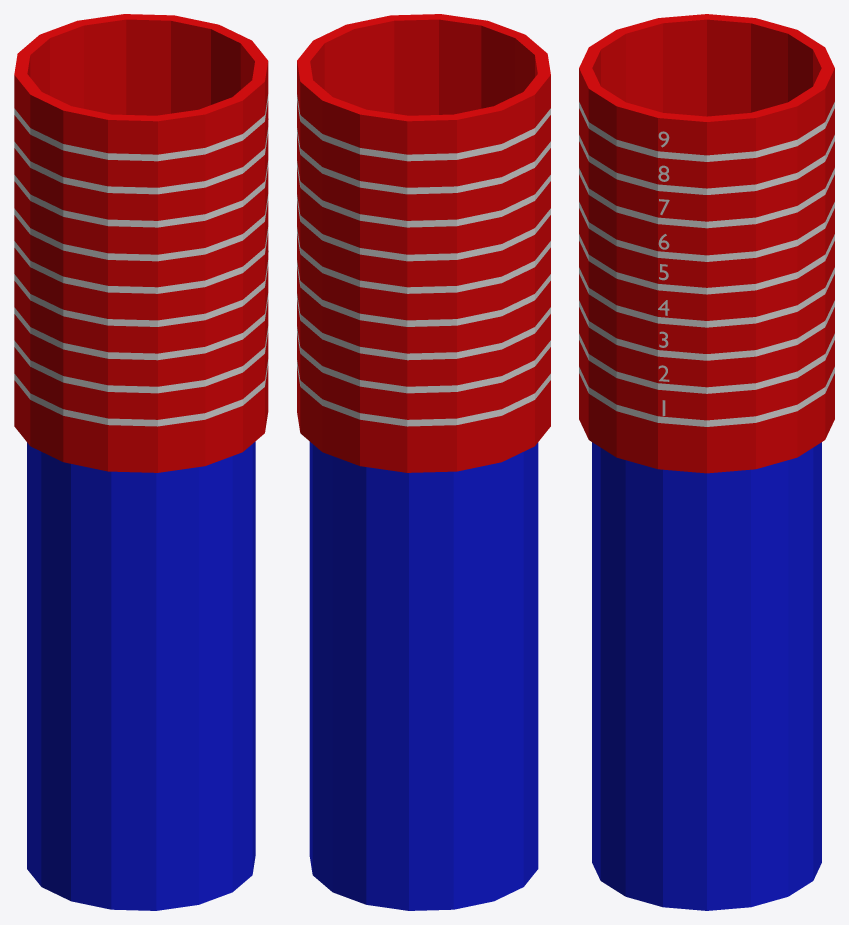
File: cewka_j.fbx
3 views of the same model, side by side, from view 1: azimuth 30°, elevation 25°; view 2: azimuth 150°, elevation 25°; view 3: azimuth 270°, elevation 25° (orthographic).
Parts seen in each view (by area): view 1: CEWKA, CIECZ; view 2: CEWKA, CIECZ; view 3: CEWKA, CIECZ.
Boxes of the visible parts, left/top/right/bottom form: CEWKA: left=14, top=14, right=268, bottom=472; CIECZ: left=27, top=441, right=255, bottom=910; CEWKA: left=297, top=14, right=550, bottom=472; CIECZ: left=309, top=441, right=538, bottom=910; CEWKA: left=579, top=14, right=834, bottom=473; CIECZ: left=592, top=442, right=821, bottom=910.
Size of the model in its own units: 200 by 685 by 200.
